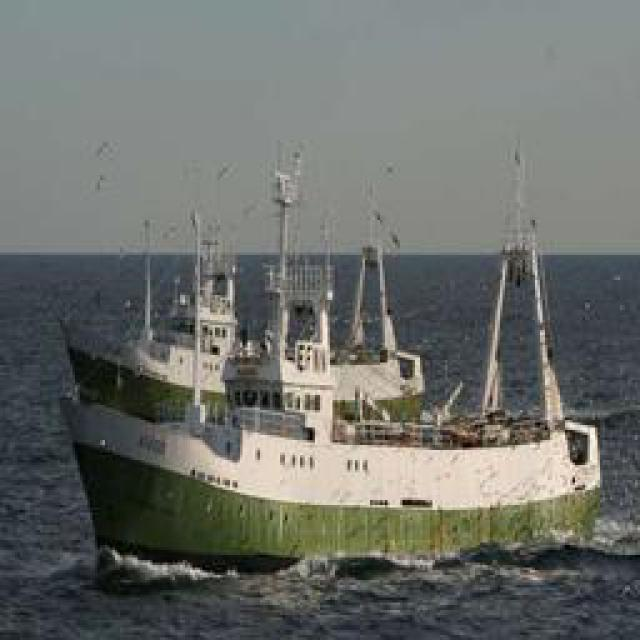Ship: (51, 160, 614, 570)
